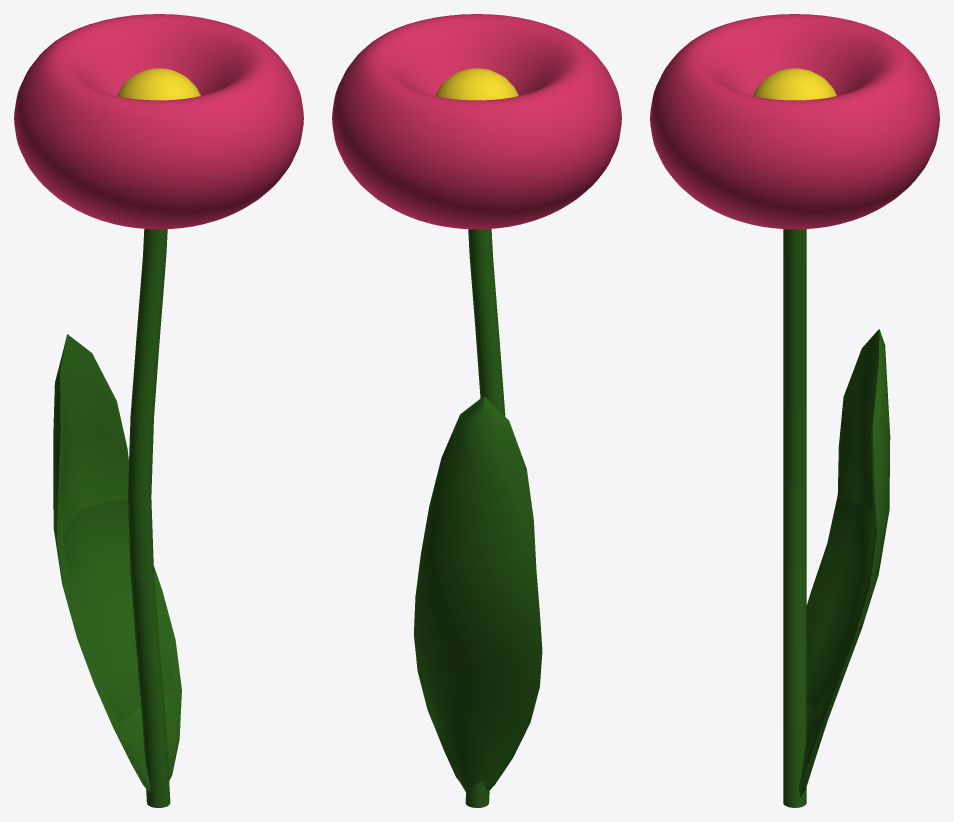
3 views of the same model, side by side, from view 1: azimuth 30°, elevation 25°; view 2: azimuth 150°, elevation 25°; view 3: azimuth 270°, elevation 25° (orthographic).
Visible parts, largest first — view 1: f08; view 2: f08; view 3: f08.
Part boxes in pixels (box(x1,y1,x2,y2)): f08: box(14, 14, 303, 807); f08: box(332, 14, 621, 807); f08: box(650, 14, 939, 807).
Size of the model in its own units: 0.2602 by 0.7369 by 0.2602.
